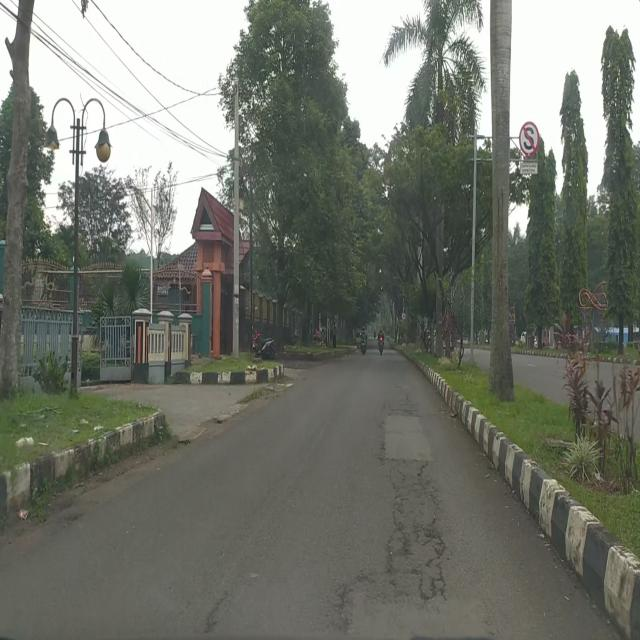Drain Hole: (388, 454, 446, 599)
